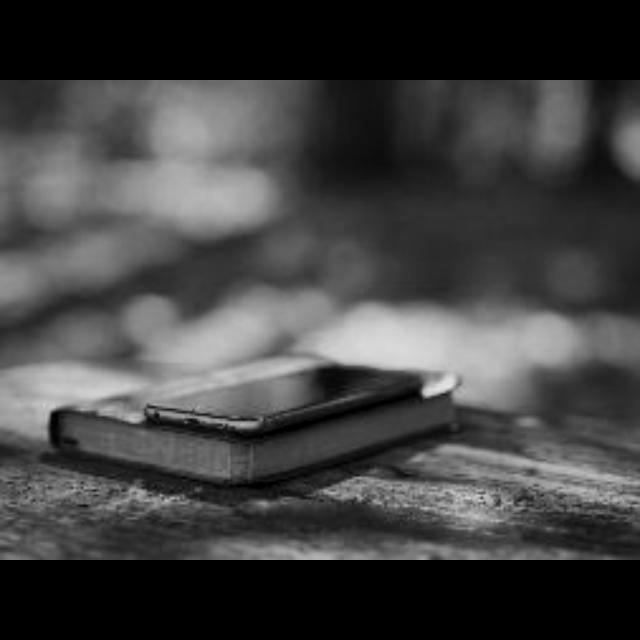fake: (121, 353, 437, 446)
